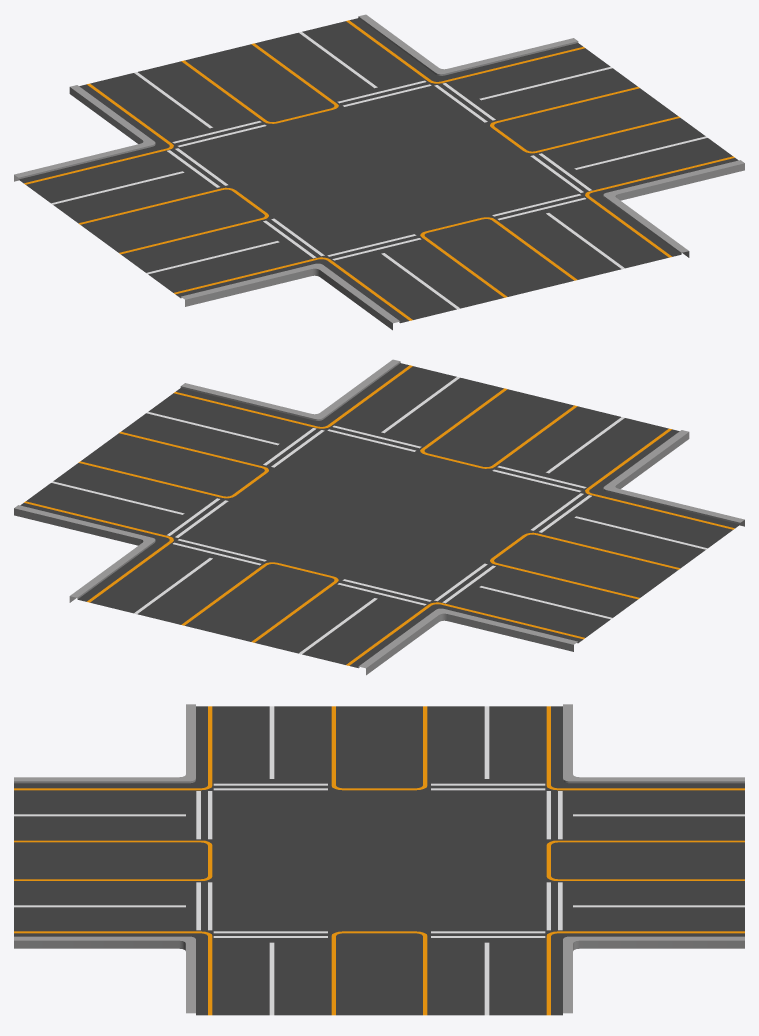
The model's file is Road_A_2L_1_6.fbx.
3 renders of one model, top to bottom at view 1: azimuth 30°, elevation 25°; view 2: azimuth 150°, elevation 25°; view 3: azimuth 270°, elevation 25°, orthographic. The views are drawn at different scales.
Parts seen in each view (by area): view 1: Road_A_2L_1_6; view 2: Road_A_2L_1_6; view 3: Road_A_2L_1_6.
Boxes of the visible parts, x1,y1,x2,y2 form: Road_A_2L_1_6: (14, 14, 744, 330); Road_A_2L_1_6: (14, 359, 744, 675); Road_A_2L_1_6: (14, 704, 744, 1015).
Size of the model in its own units: 3400 by 41.48 by 3400.
